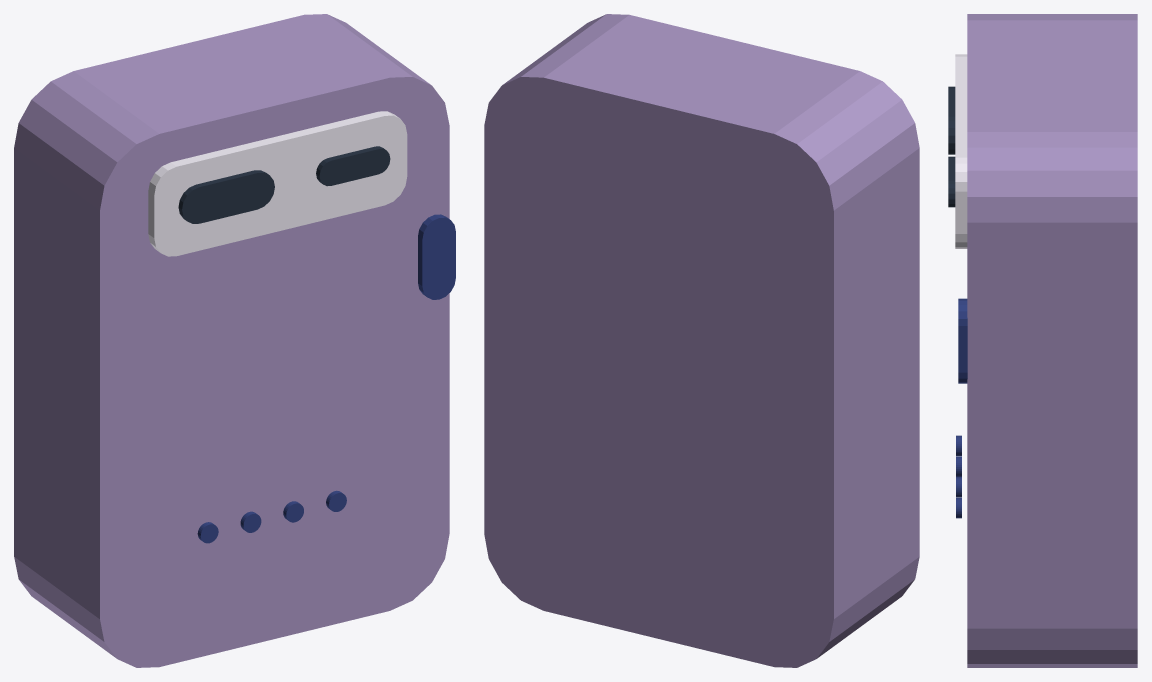
The model's file is powerbank.glb.
3 views of the same model, side by side, from view 1: azimuth 30°, elevation 25°; view 2: azimuth 150°, elevation 25°; view 3: azimuth 270°, elevation 25° (orthographic).
Parts seen in each view (by area): view 1: body, port panel, port usb a, power key, port usb c; view 2: body; view 3: body, port panel, power key, port usb a, port usb c.
Part boxes in pixels (left/top/right/bottom): body: left=14, top=14, right=449, bottom=667; port panel: left=148, top=111, right=407, bottom=256; port usb a: left=178, top=170, right=274, bottom=223; power key: left=418, top=214, right=455, bottom=299; port usb c: left=316, top=146, right=390, bottom=186; body: left=484, top=14, right=919, bottom=667; body: left=967, top=14, right=1137, bottom=667; port panel: left=955, top=54, right=967, bottom=248; power key: left=958, top=298, right=967, bottom=383; port usb a: left=948, top=86, right=955, bottom=154; port usb c: left=948, top=156, right=955, bottom=207.
Size of the model in its own units: 0.945 by 1.37 by 0.4445.
